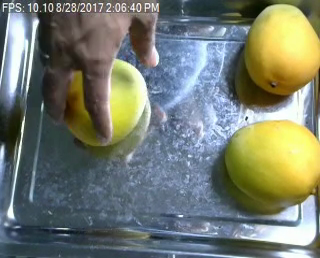Mango: (223, 116, 320, 209), (52, 56, 151, 146), (239, 1, 320, 98)
